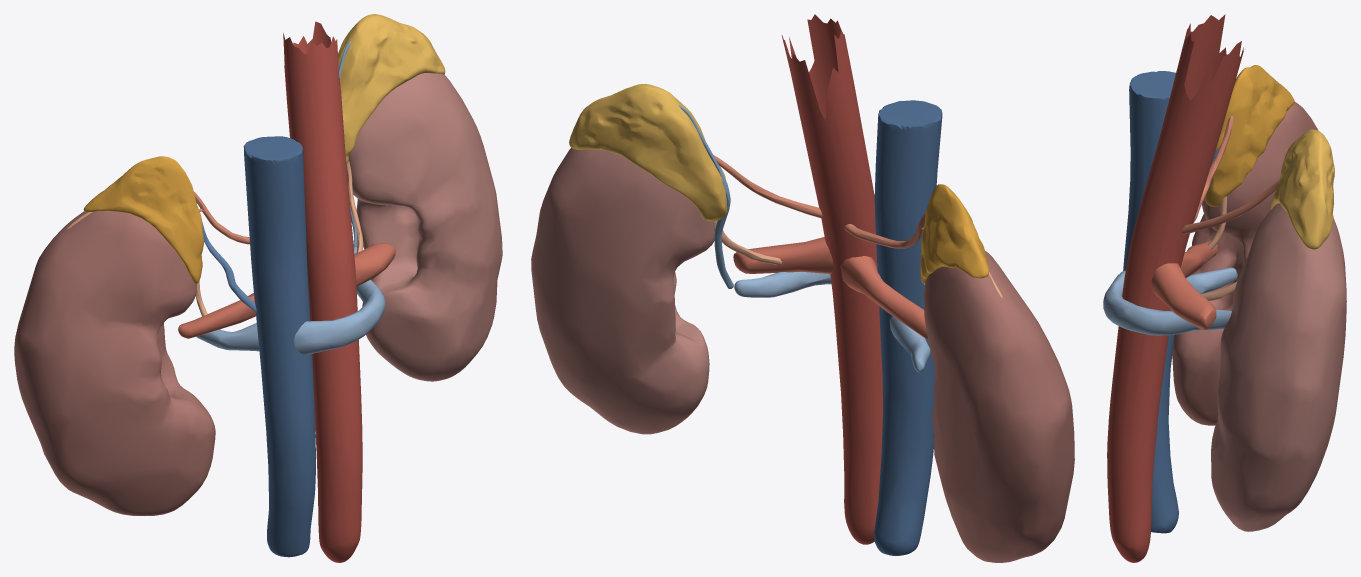
File: adrenals.glb
3 views of the same model, side by side, from view 1: azimuth 30°, elevation 25°; view 2: azimuth 150°, elevation 25°; view 3: azimuth 270°, elevation 25° (orthographic). The views are drawn at different scales.
Visible parts, largest first — view 1: right-kidney, left-kidney, aorta, inferior-vena-cava, left-adrenal-gland, right-adrenal-gland, renal-veins, renal-arteries, inferior-suprarenal-arteries, right-suprarenal-vein; view 2: left-kidney, right-kidney, aorta, inferior-vena-cava, left-adrenal-gland, renal-arteries, right-adrenal-gland, renal-veins, middle-suprarenal-arteries, left-suprarenal-vein, inferior-suprarenal-arteries; view 3: left-kidney, aorta, right-kidney, inferior-vena-cava, right-adrenal-gland, left-adrenal-gland, renal-veins, renal-arteries, middle-suprarenal-arteries, inferior-suprarenal-arteries.
Boxes of the visible parts, x1=… form: right-kidney: x1=14, y1=211, x2=215, y2=515; left-kidney: x1=348, y1=73, x2=502, y2=381; aorta: x1=283, y1=21, x2=362, y2=562; inferior-vena-cava: x1=243, y1=136, x2=315, y2=557; left-adrenal-gland: x1=338, y1=14, x2=445, y2=163; right-adrenal-gland: x1=83, y1=156, x2=203, y2=283; renal-veins: x1=196, y1=247, x2=385, y2=354; renal-arteries: x1=178, y1=243, x2=395, y2=338; inferior-suprarenal-arteries: x1=67, y1=161, x2=363, y2=316; right-suprarenal-vein: x1=202, y1=222, x2=256, y2=312; left-kidney: x1=531, y1=147, x2=714, y2=434; right-kidney: x1=923, y1=251, x2=1074, y2=562; aorta: x1=781, y1=14, x2=882, y2=544; inferior-vena-cava: x1=874, y1=100, x2=942, y2=555; left-adrenal-gland: x1=569, y1=84, x2=727, y2=221; renal-arteries: x1=733, y1=237, x2=928, y2=339; right-adrenal-gland: x1=920, y1=184, x2=989, y2=284; renal-veins: x1=734, y1=271, x2=930, y2=372; middle-suprarenal-arteries: x1=713, y1=155, x2=925, y2=248; left-suprarenal-vein: x1=678, y1=105, x2=733, y2=288; inferior-suprarenal-arteries: x1=713, y1=220, x2=1002, y2=298; left-kidney: x1=1211, y1=203, x2=1346, y2=531; aorta: x1=1107, y1=14, x2=1243, y2=562; right-kidney: x1=1172, y1=102, x2=1318, y2=425; inferior-vena-cava: x1=1123, y1=71, x2=1178, y2=533; right-adrenal-gland: x1=1204, y1=65, x2=1294, y2=206; left-adrenal-gland: x1=1269, y1=129, x2=1334, y2=249; renal-veins: x1=1103, y1=267, x2=1237, y2=335; renal-arteries: x1=1151, y1=240, x2=1217, y2=329; middle-suprarenal-arteries: x1=1182, y1=116, x2=1279, y2=234; inferior-suprarenal-arteries: x1=1201, y1=196, x2=1236, y2=300.
Size of the model in its own units: 2.85 by 2.85 by 1.17.
